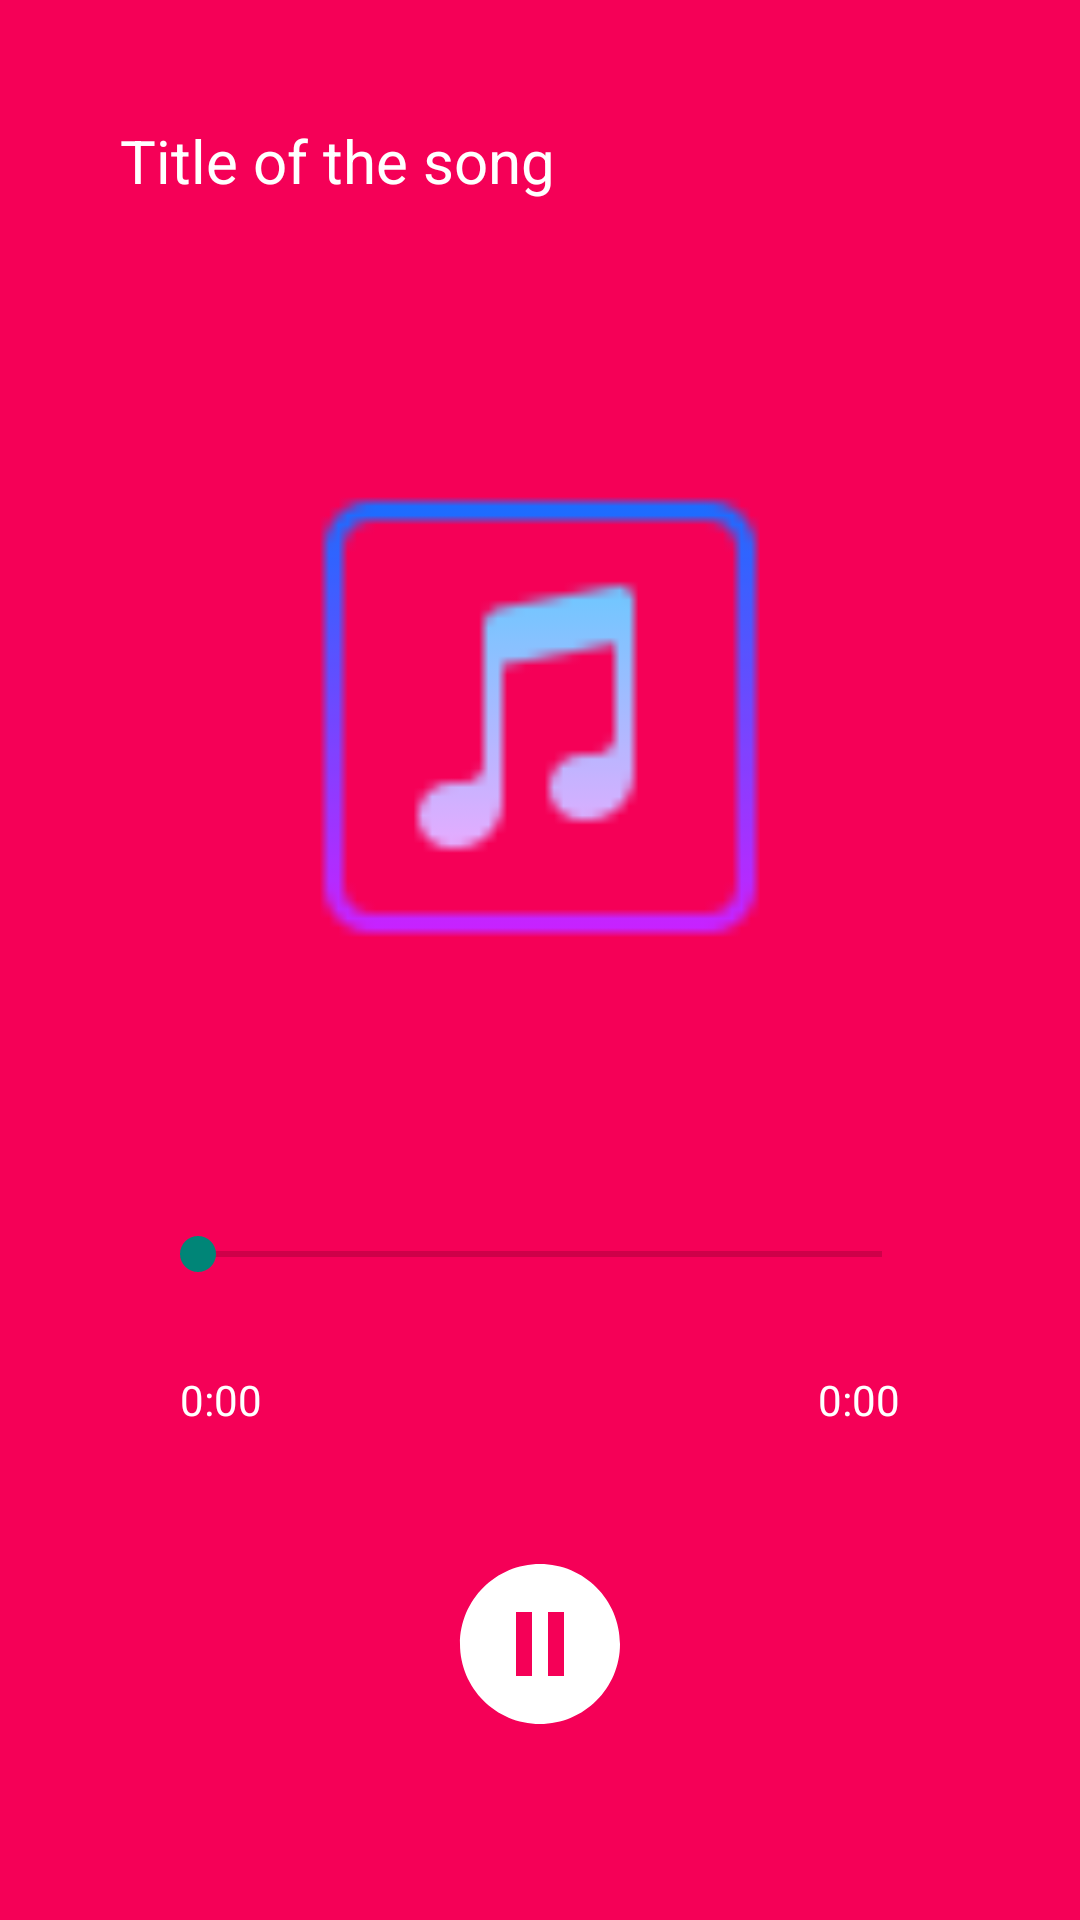

Named icons in this screenshot (1080w x 1920h) and their bounding boxes, (x1, y1, x2, y2):
pause circle: (459, 1564, 620, 1724)
